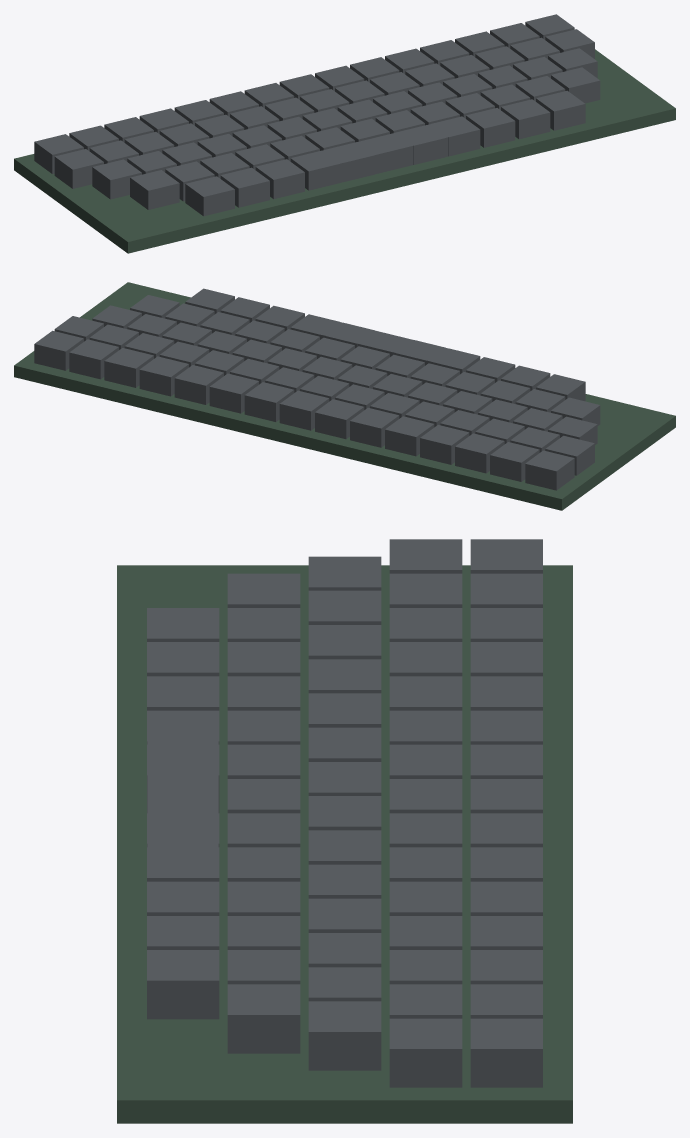
File: keyboard-sb-65.glb
3 renders of one model, top to bottom at view 1: azimuth 30°, elevation 25°; view 2: azimuth 150°, elevation 25°; view 3: azimuth 270°, elevation 25°, orthographic. The views are drawn at different scales.
Parts seen in each view (by area): view 1: geometry_0, geometry_63, geometry_58, geometry_45, geometry_16, geometry_31, geometry_67, geometry_68, geometry_66, geometry_59, geometry_61, geometry_60 (+57 smaller); view 2: geometry_0, geometry_63, geometry_1, geometry_8, geometry_9, geometry_14, geometry_11, geometry_15, geometry_2, geometry_10, geometry_12, geometry_13 (+56 smaller); view 3: geometry_0, geometry_63, geometry_44, geometry_57, geometry_30, geometry_15, geometry_68, geometry_16, geometry_20, geometry_25, geometry_29, geometry_35 (+55 smaller).
Boxes of the visible parts, x1,y1,x2,y2 form: geometry_0: [14, 49, 675, 253]; geometry_63: [322, 123, 449, 182]; geometry_58: [185, 176, 234, 216]; geometry_45: [130, 170, 179, 209]; geometry_16: [54, 149, 103, 188]; geometry_31: [92, 159, 141, 199]; geometry_67: [501, 99, 550, 139]; geometry_68: [536, 90, 585, 130]; geometry_66: [466, 108, 515, 147]; geometry_59: [220, 167, 269, 207]; geometry_61: [290, 150, 339, 190]; geometry_60: [255, 159, 304, 199]; geometry_0: [14, 282, 675, 510]; geometry_63: [321, 321, 449, 363]; geometry_1: [525, 450, 574, 490]; geometry_8: [279, 390, 329, 430]; geometry_9: [244, 382, 294, 421]; geometry_14: [69, 339, 118, 379]; geometry_11: [174, 365, 223, 404]; geometry_15: [34, 330, 83, 370]; geometry_2: [490, 442, 539, 481]; geometry_10: [209, 373, 258, 413]; geometry_12: [139, 356, 188, 396]; geometry_13: [104, 348, 153, 387]; geometry_0: [117, 565, 572, 1123]; geometry_63: [147, 739, 218, 848]; geometry_44: [308, 1001, 381, 1070]; geometry_57: [227, 984, 300, 1053]; geometry_30: [389, 1018, 462, 1087]; geometry_15: [470, 1018, 542, 1087]; geometry_68: [147, 950, 219, 1019]; geometry_16: [389, 539, 462, 573]; geometry_20: [389, 676, 462, 710]; geometry_25: [389, 847, 462, 881]; geometry_29: [389, 984, 462, 1018]; geometry_35: [308, 693, 381, 727].
Bounding box in the file's own units: 0.297 × 0.016 × 0.107.
